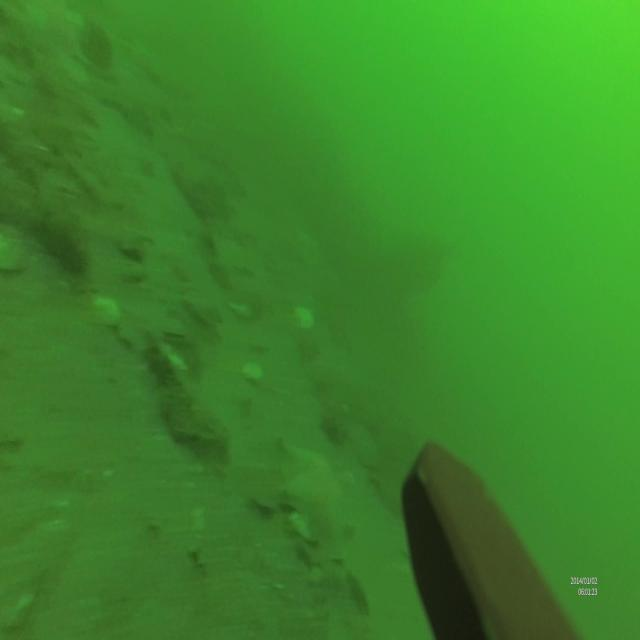starfish: (276, 433, 352, 559)
